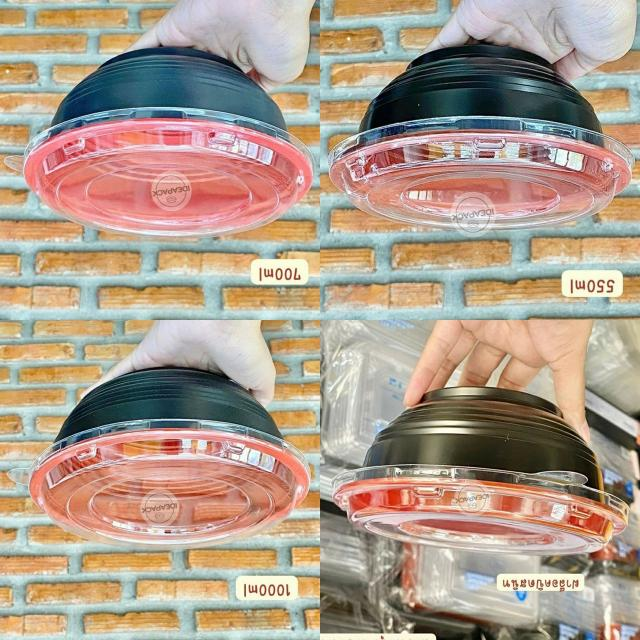Single-Use-Plastic: (6, 48, 314, 236), (329, 44, 634, 232), (10, 368, 310, 547), (334, 388, 628, 554)
